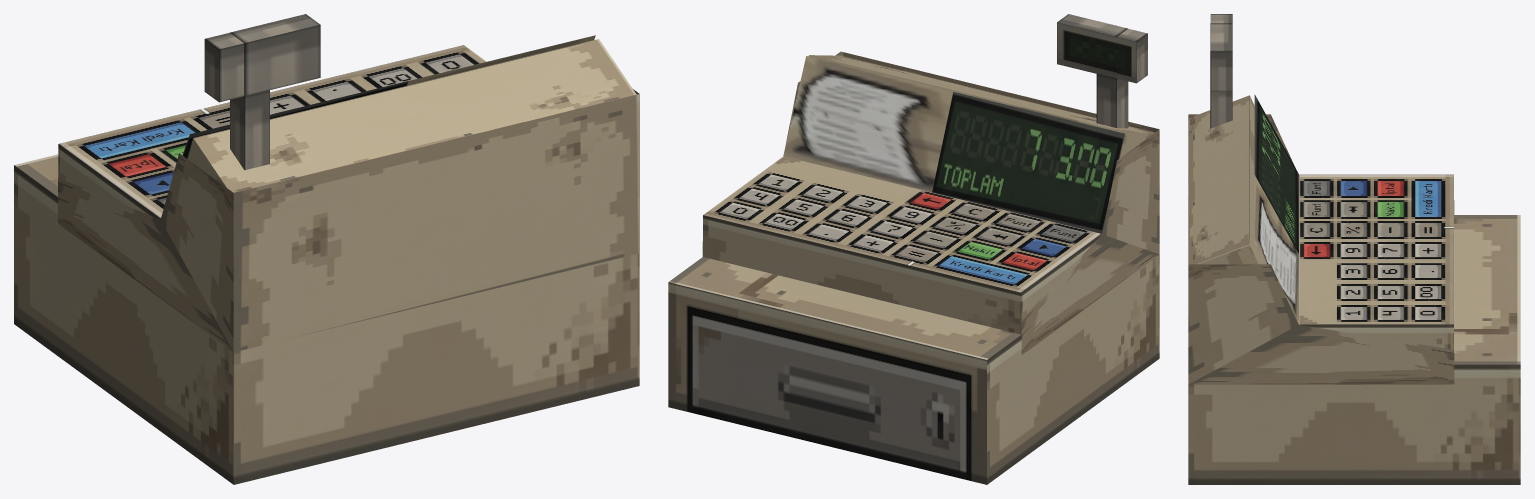
The model's file is yazarkasa.fbx.
The picture shows the model from 3 angles, left to right: view 1: azimuth 30°, elevation 25°; view 2: azimuth 150°, elevation 25°; view 3: azimuth 270°, elevation 25°; orthographic projection. The views are drawn at different scales.
Visible parts, largest first — view 1: cube, group, cube_2, cube_1, cube_3, cube_4, cube_5, beveled_cuboid; view 2: cube, cube_1, beveled_cuboid, group, cube_2, cube_3, cube_4, cube_5; view 3: cube, cube_1, group, cube_2, beveled_cuboid, cube_3, cube_4.
Part boxes in pixels (box(x1,y1,x2,y2)): cube: box(14, 154, 639, 484); group: box(58, 89, 639, 352); cube_2: box(187, 39, 636, 192); cube_1: box(58, 45, 486, 219); cube_3: box(230, 14, 320, 96); cube_4: box(230, 90, 269, 170); cube_5: box(204, 32, 244, 102); beveled_cuboid: box(160, 35, 595, 218); cube: box(668, 167, 1159, 484); cube_1: box(703, 156, 1101, 334); beveled_cuboid: box(783, 56, 1124, 233); group: box(702, 51, 1159, 354); cube_2: box(808, 55, 1154, 158); cube_3: box(1057, 14, 1127, 78); cube_4: box(1096, 74, 1128, 128); cube_5: box(1116, 28, 1147, 83); cube: box(1188, 215, 1520, 484); cube_1: box(1299, 174, 1453, 349); group: box(1188, 114, 1454, 384); cube_2: box(1188, 95, 1265, 264); beveled_cuboid: box(1254, 94, 1298, 323); cube_3: box(1210, 23, 1232, 91); cube_4: box(1210, 91, 1232, 128).
Size of the model in its own units: 25 by 24.99 by 23.43.
1 material, 1 textured.
